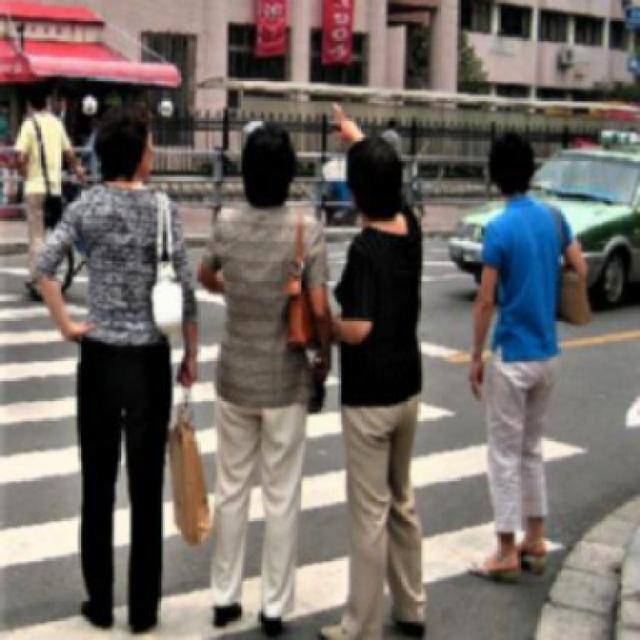Person: (24, 94, 208, 638), (206, 117, 342, 638), (323, 94, 431, 638), (472, 118, 590, 578), (1, 78, 72, 297)
